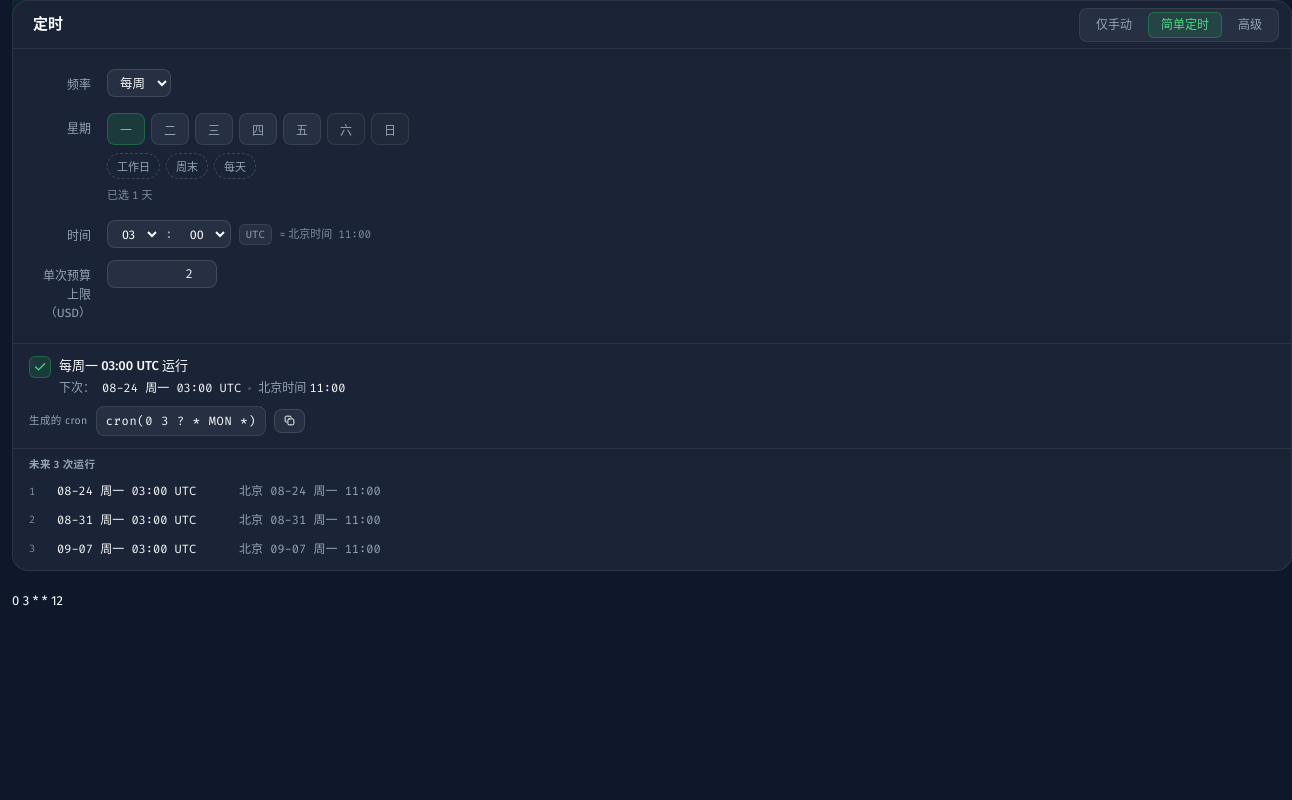
Test case: SchedulePicker：简单档 › 星期不许清空：最后一天点掉被拒，警示文案出现
The width and height of the screenshot is (1292, 800).
Click the button with test id "sched-day-1" at (126, 129), box [107, 113, 145, 145]
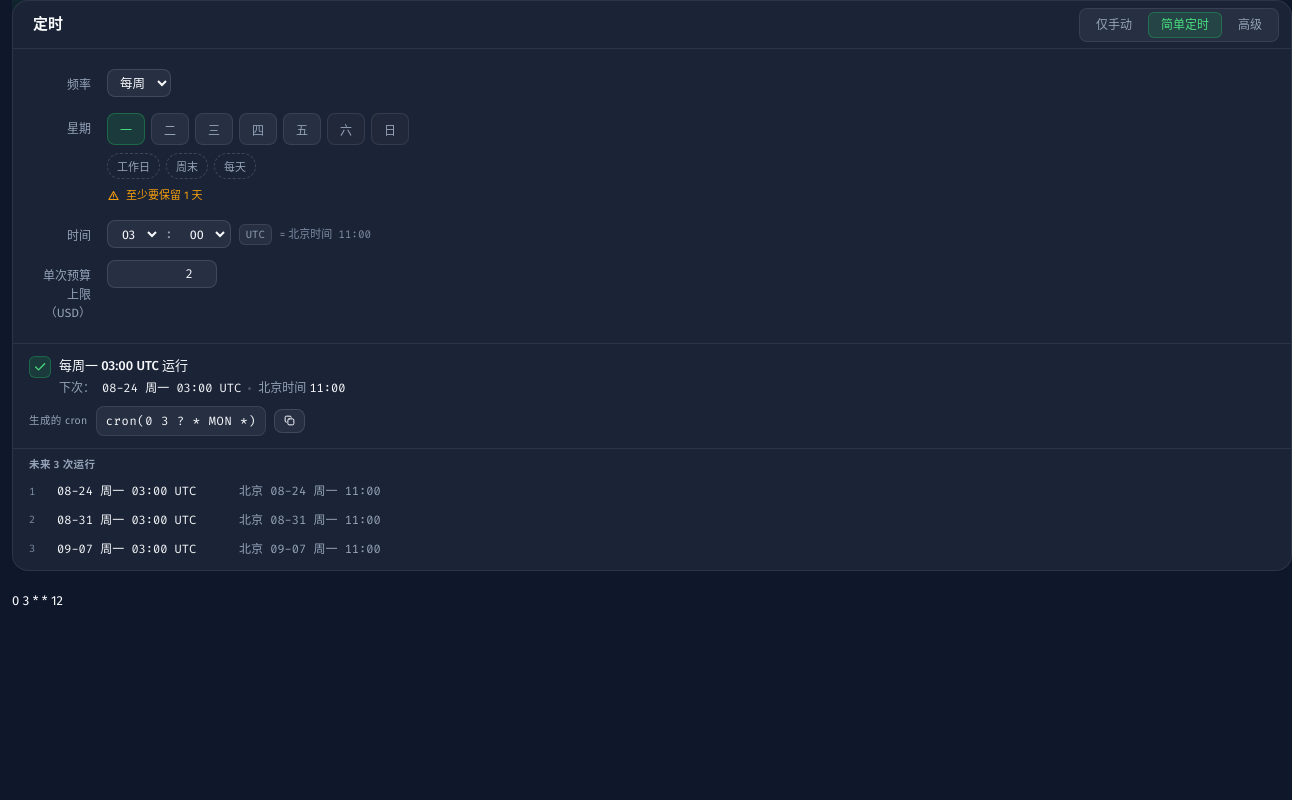
Now the element with test id "sched-day-note" reads "至少要保留 1 天", box [126, 189, 203, 202]
# 再选一天警示消失
Click the button with test id "sched-day-5" at (302, 129), box [283, 113, 321, 145]
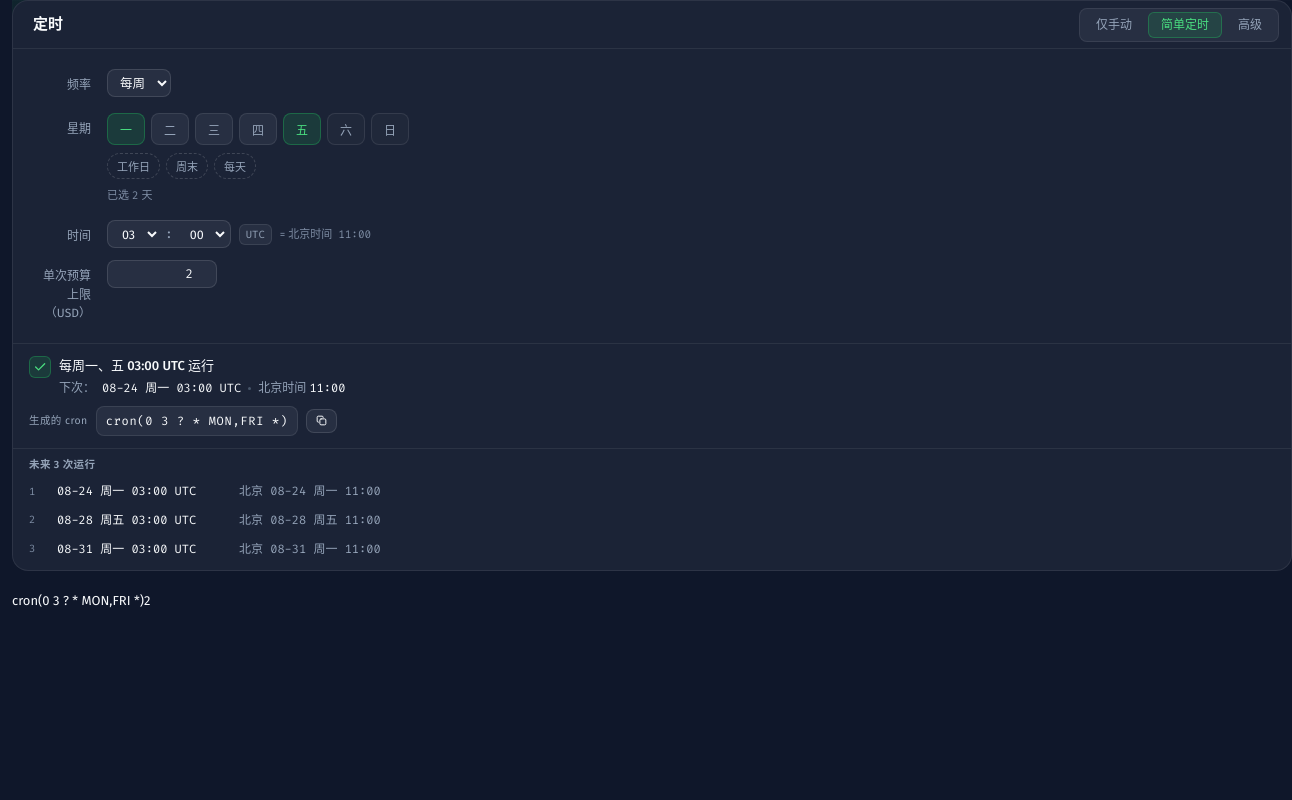
Now the element with test id "sched-day-note" reads "已选 2 天", box [107, 188, 152, 203]
